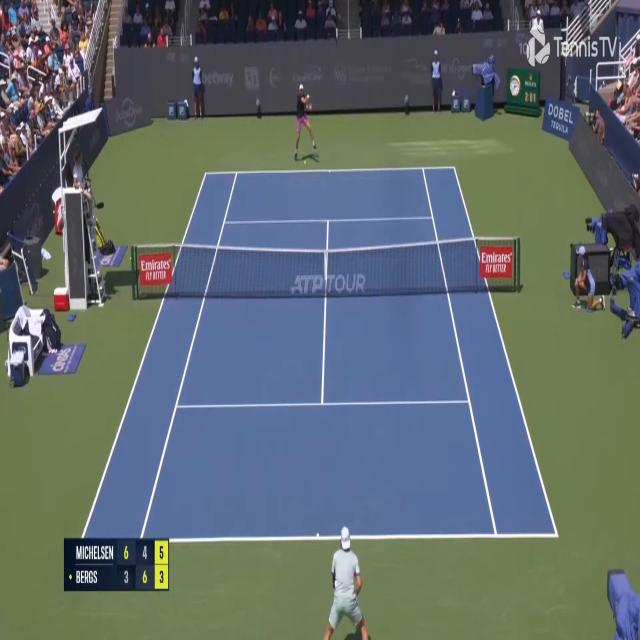tennis-player: (316, 522, 374, 638), (292, 83, 318, 163)
